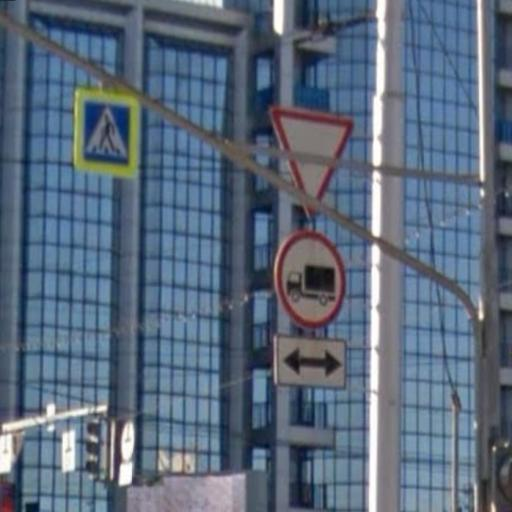traffic_sign: (266, 104, 357, 223), (273, 229, 350, 333), (74, 84, 142, 180)
